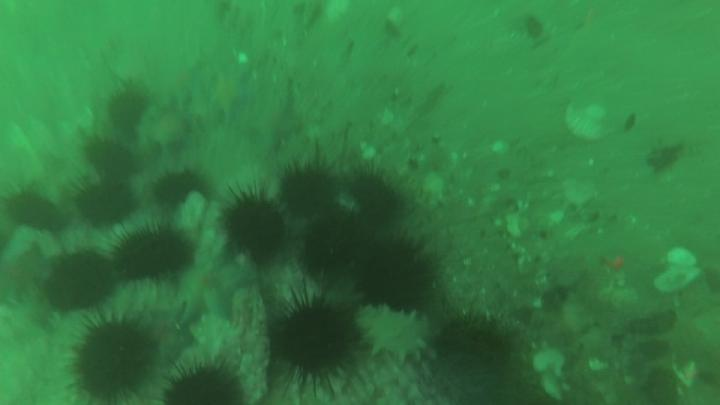echinus: (274, 301, 349, 376), (78, 325, 150, 399), (306, 205, 375, 271), (364, 237, 430, 305), (114, 231, 197, 280), (45, 256, 112, 314), (229, 197, 285, 261), (441, 313, 506, 364), (279, 169, 334, 219), (167, 368, 240, 405), (75, 188, 137, 226), (352, 171, 399, 218), (84, 138, 136, 180), (10, 195, 61, 229), (153, 170, 200, 206), (106, 88, 147, 127)
holothurian: (355, 305, 434, 363)
scallop: (565, 103, 614, 144)
starfish: (180, 261, 249, 324), (149, 105, 199, 161), (213, 76, 253, 121)
